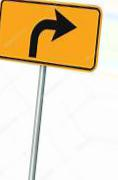right: (1, 1, 103, 72)
